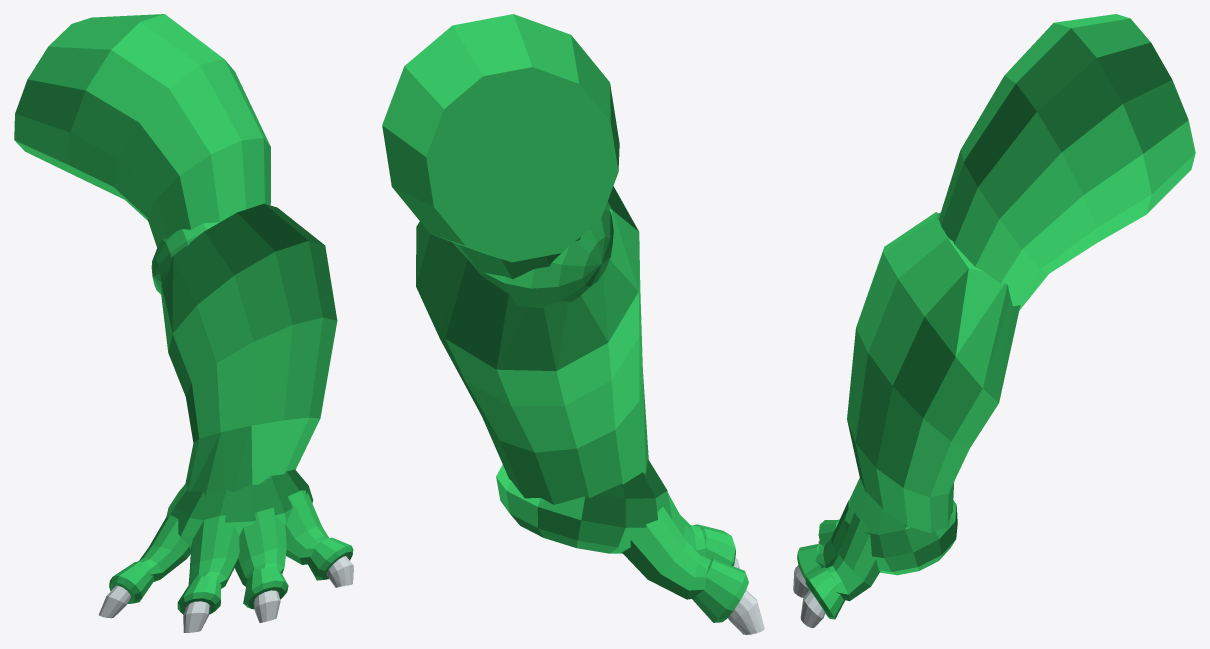
Rendered from LegModel.fbx.
3 renders of one model, left to right at view 1: azimuth 30°, elevation 25°; view 2: azimuth 150°, elevation 25°; view 3: azimuth 270°, elevation 25°, orthographic. The views are drawn at different scales.
Parts seen in each view (by area): view 1: group1832439925.975, group1236733959, group1335273033; view 2: group1832439925.975, group1236733959, group1335273033; view 3: group1832439925.975, group1236733959, group1335273033.
Boxes of the visible parts, <box> form: group1832439925.975: <box>14,14,270,294</box>; group1236733959: <box>160,203,337,494</box>; group1335273033: <box>99,469,353,632</box>; group1832439925.975: <box>382,14,619,307</box>; group1236733959: <box>416,186,648,504</box>; group1335273033: <box>496,459,764,634</box>; group1832439925.975: <box>937,14,1195,310</box>; group1236733959: <box>847,212,1020,533</box>; group1335273033: <box>793,478,957,627</box>.
Size of the model in its own units: 0.304 by 0.6177 by 0.3902.
